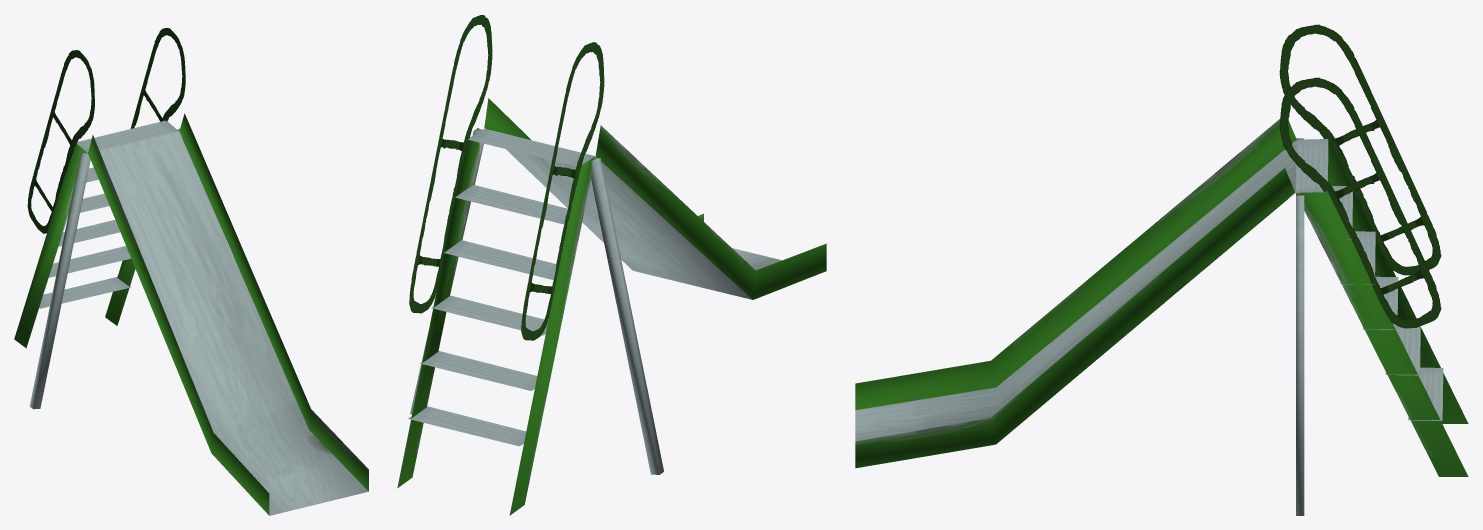
Rendered from slide.fbx.
The picture shows the model from 3 angles, left to right: view 1: azimuth 30°, elevation 25°; view 2: azimuth 150°, elevation 25°; view 3: azimuth 270°, elevation 25°; orthographic projection. The views are drawn at different scales.
Parts seen in each view (by area): view 1: slide; view 2: slide; view 3: slide.
Boxes of the visible parts, x1,y1,x2,y2 form: slide: [14, 28, 368, 515]; slide: [397, 15, 826, 515]; slide: [855, 24, 1468, 515].
Size of the model in its own units: 148 by 244 by 325.
